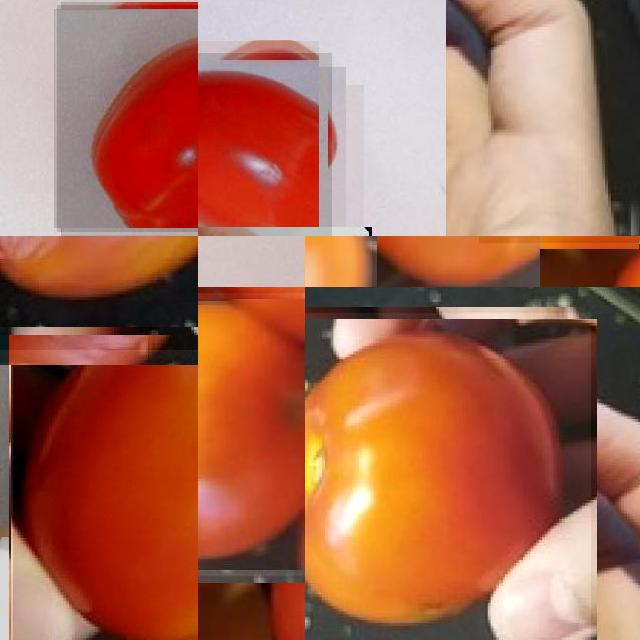Fresh Tomato: (305, 313, 590, 640), (13, 365, 198, 640), (57, 5, 198, 232), (198, 292, 305, 576), (198, 53, 332, 236), (305, 236, 540, 287)
Rotten Tomato: (0, 236, 198, 350)
